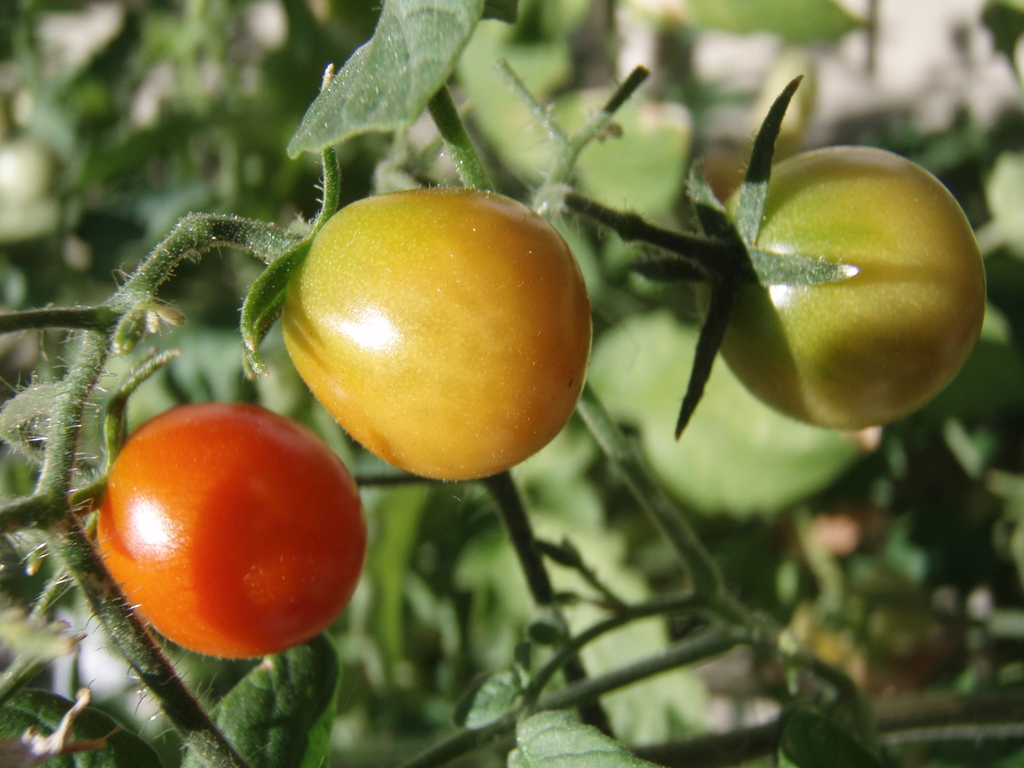Tomato: (281, 178, 592, 483), (697, 145, 986, 430), (97, 401, 366, 658)
